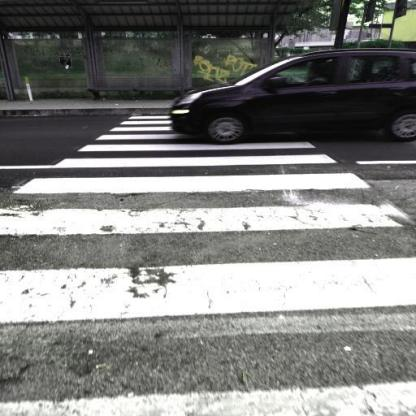crosswalk: (0, 197, 416, 329), (74, 133, 336, 155)
